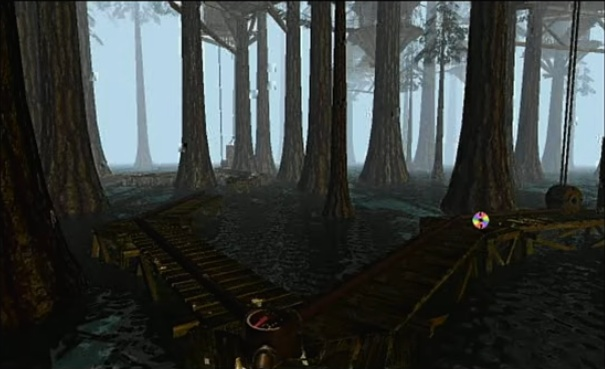Waiting: (469, 208, 494, 231)
